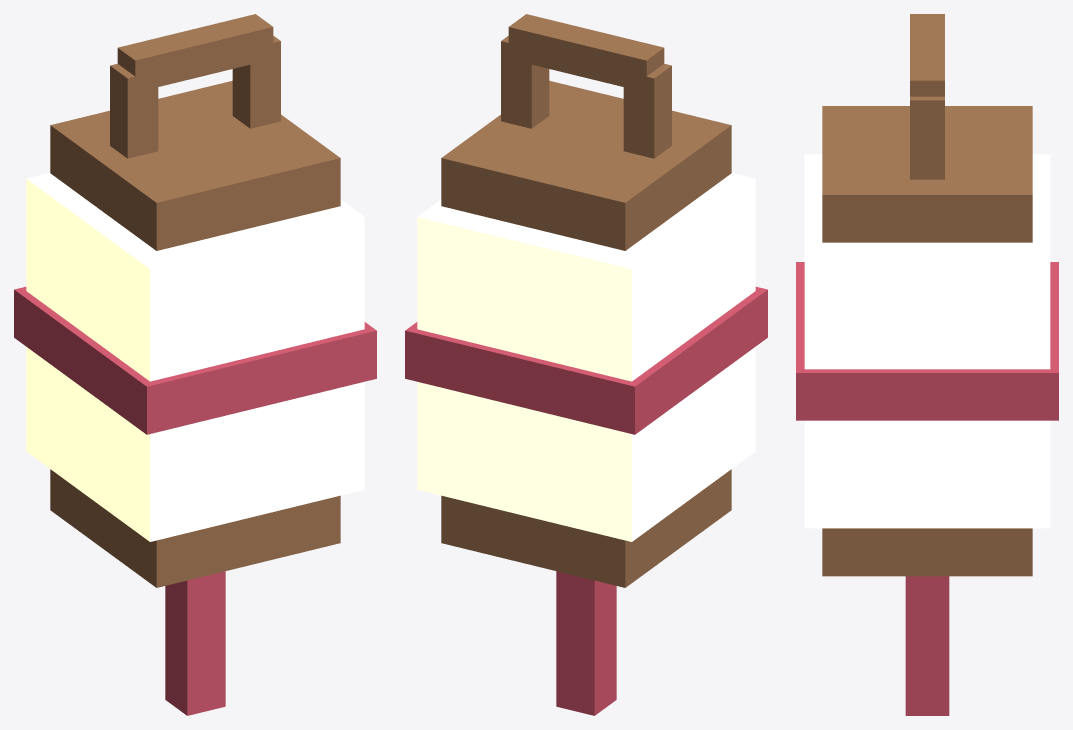
File: lanterna_papel.glb
3 renders of one model, left to right at view 1: azimuth 30°, elevation 25°; view 2: azimuth 150°, elevation 25°; view 3: azimuth 270°, elevation 25°, orthographic.
Parts seen in each view (by area): view 1: lanterna_papel; view 2: lanterna_papel; view 3: lanterna_papel.
Part boxes in pixels (x1,y1,x2,y2): lanterna_papel: [14, 14, 376, 715]; lanterna_papel: [405, 14, 767, 715]; lanterna_papel: [796, 14, 1058, 715].
Bounding box in the file's own units: 0.15 × 0.415 × 0.15.
